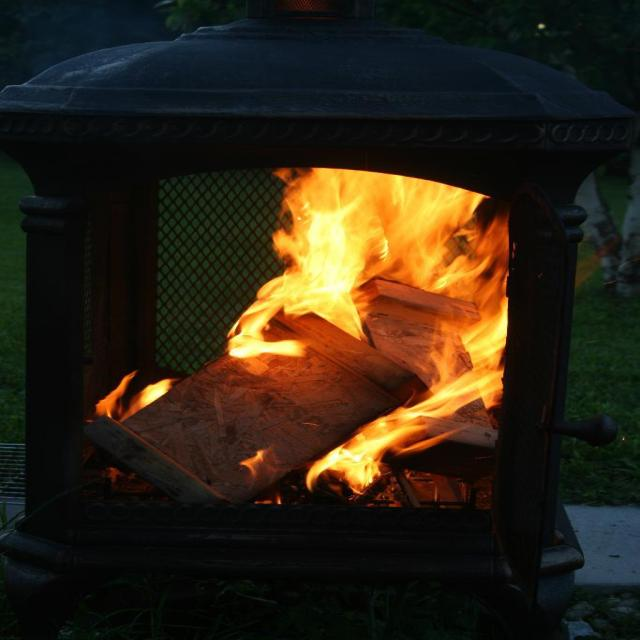Fire: (98, 150, 506, 508)
